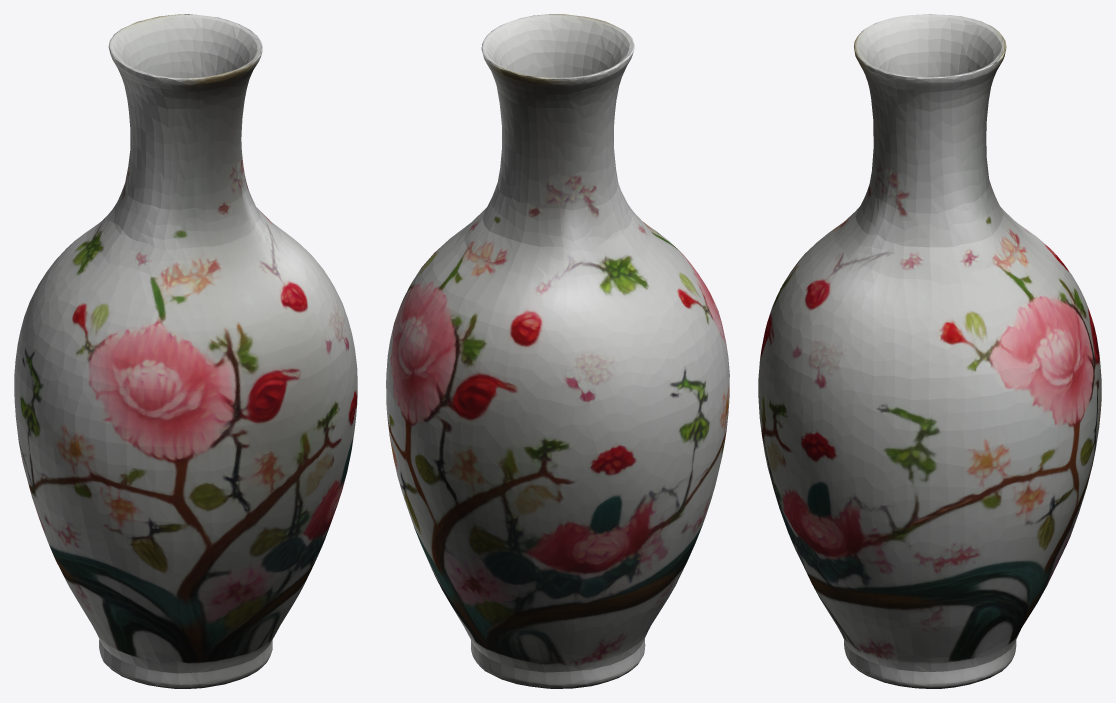
File: porcelain-hand-painted-vase-japanese.jpeg.glb
3 views of the same model, side by side, from view 1: azimuth 30°, elevation 25°; view 2: azimuth 150°, elevation 25°; view 3: azimuth 270°, elevation 25° (orthographic).
Visible parts, largest first — view 1: world; view 2: world; view 3: world.
Boxes of the visible parts, <box> form: world: <box>14,14,357,688</box>; world: <box>386,14,729,688</box>; world: <box>758,14,1101,688</box>.
Size of the model in its own units: 0.5115 by 1 by 0.511.
Materials: 1 (1 with a texture image).
